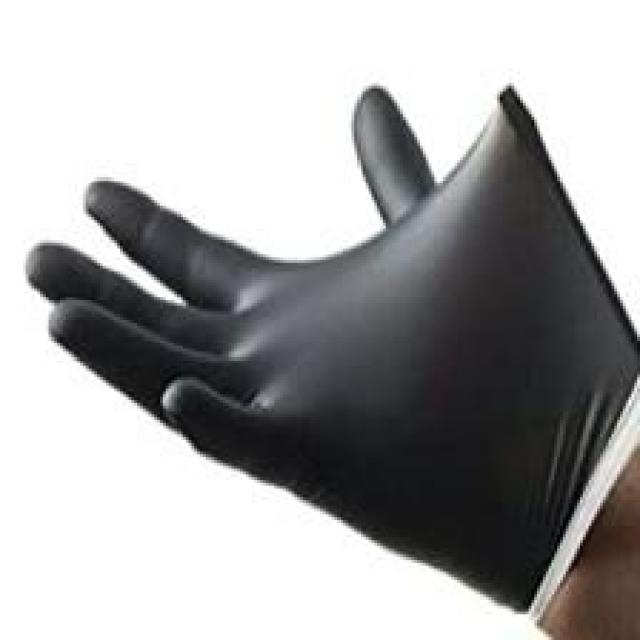Glove: (21, 62, 640, 608)
